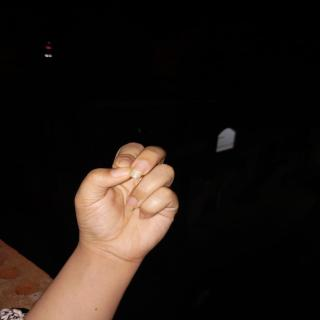QAAF: (59, 136, 184, 277)
